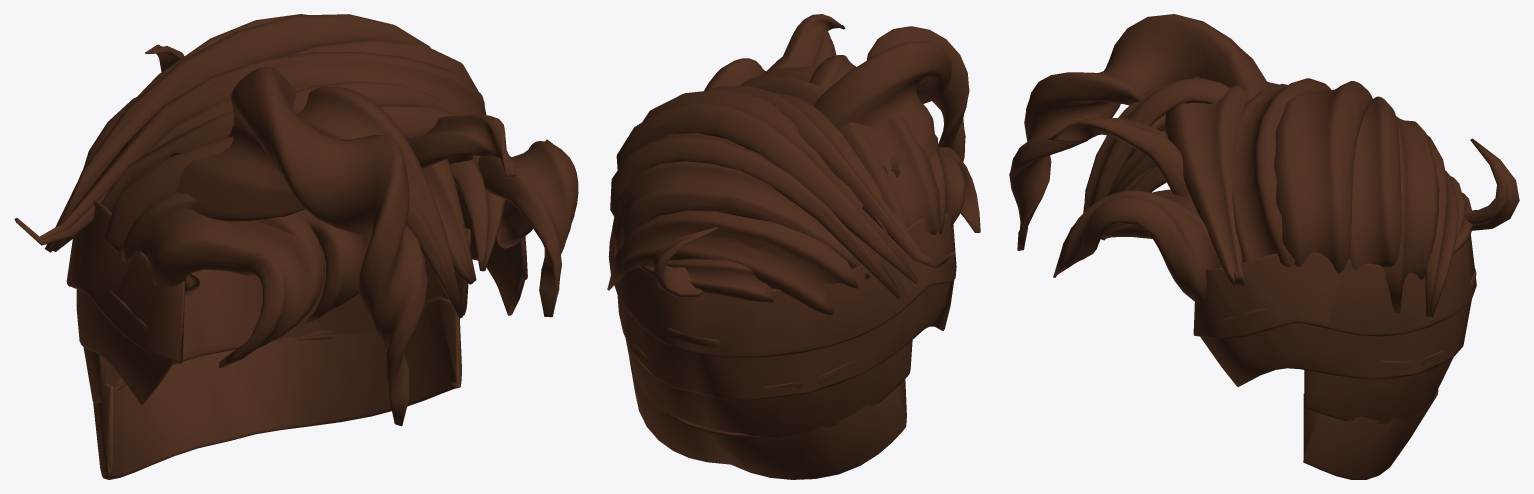
The picture shows the model from 3 angles, left to right: view 1: azimuth 30°, elevation 25°; view 2: azimuth 150°, elevation 25°; view 3: azimuth 270°, elevation 25°; orthographic projection. The views are drawn at different scales.
Parts seen in each view (by area): view 1: hairShortCurly; view 2: hairShortCurly; view 3: hairShortCurly.
Boxes of the visible parts, x1,y1,x2,y2 form: hairShortCurly: (14, 14, 578, 479); hairShortCurly: (607, 14, 980, 479); hairShortCurly: (1009, 14, 1519, 479).
Size of the model in its own units: 0.5685 by 0.5504 by 0.6605.
1 material, 1 textured.
